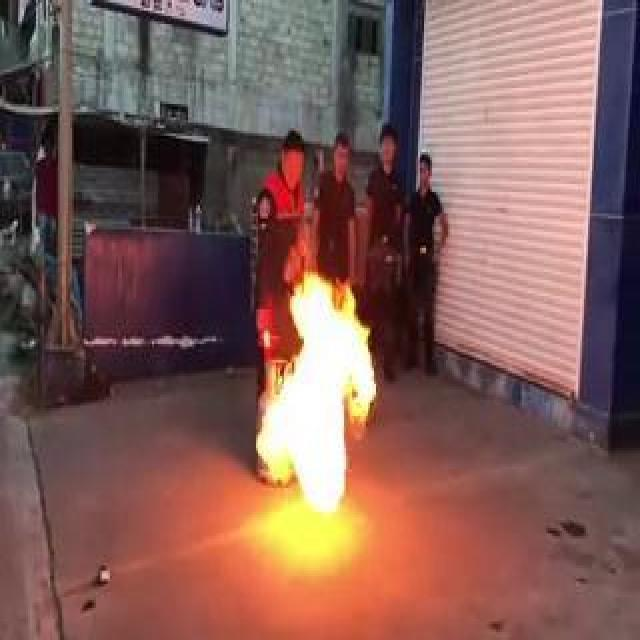Fire: (256, 276, 379, 508)
